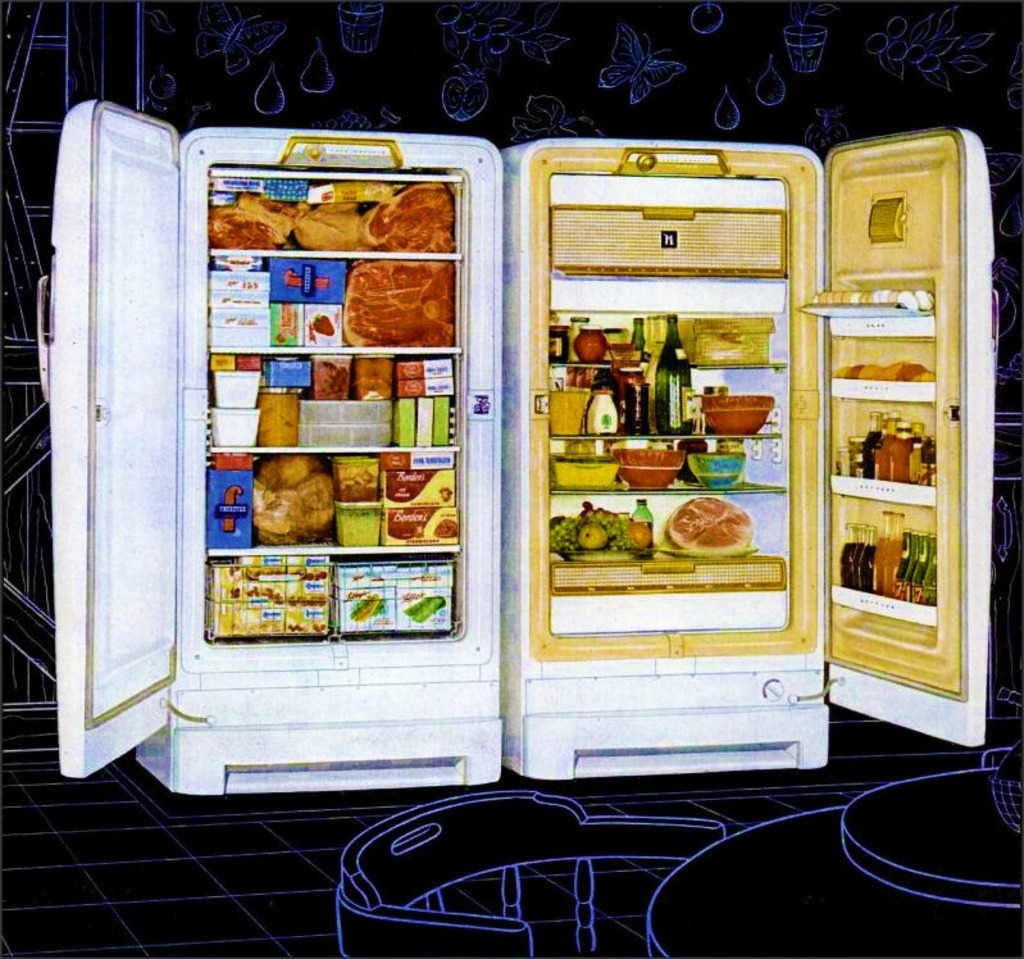refrigerator door: (823, 161, 984, 749), (71, 117, 169, 734)
